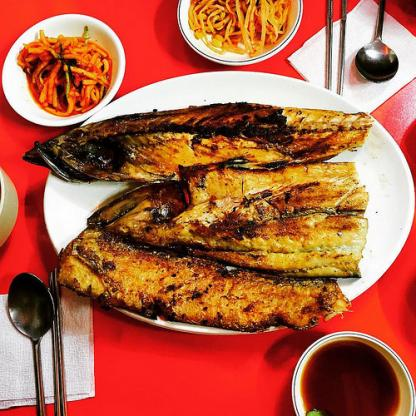Peixe: (28, 101, 391, 326)
